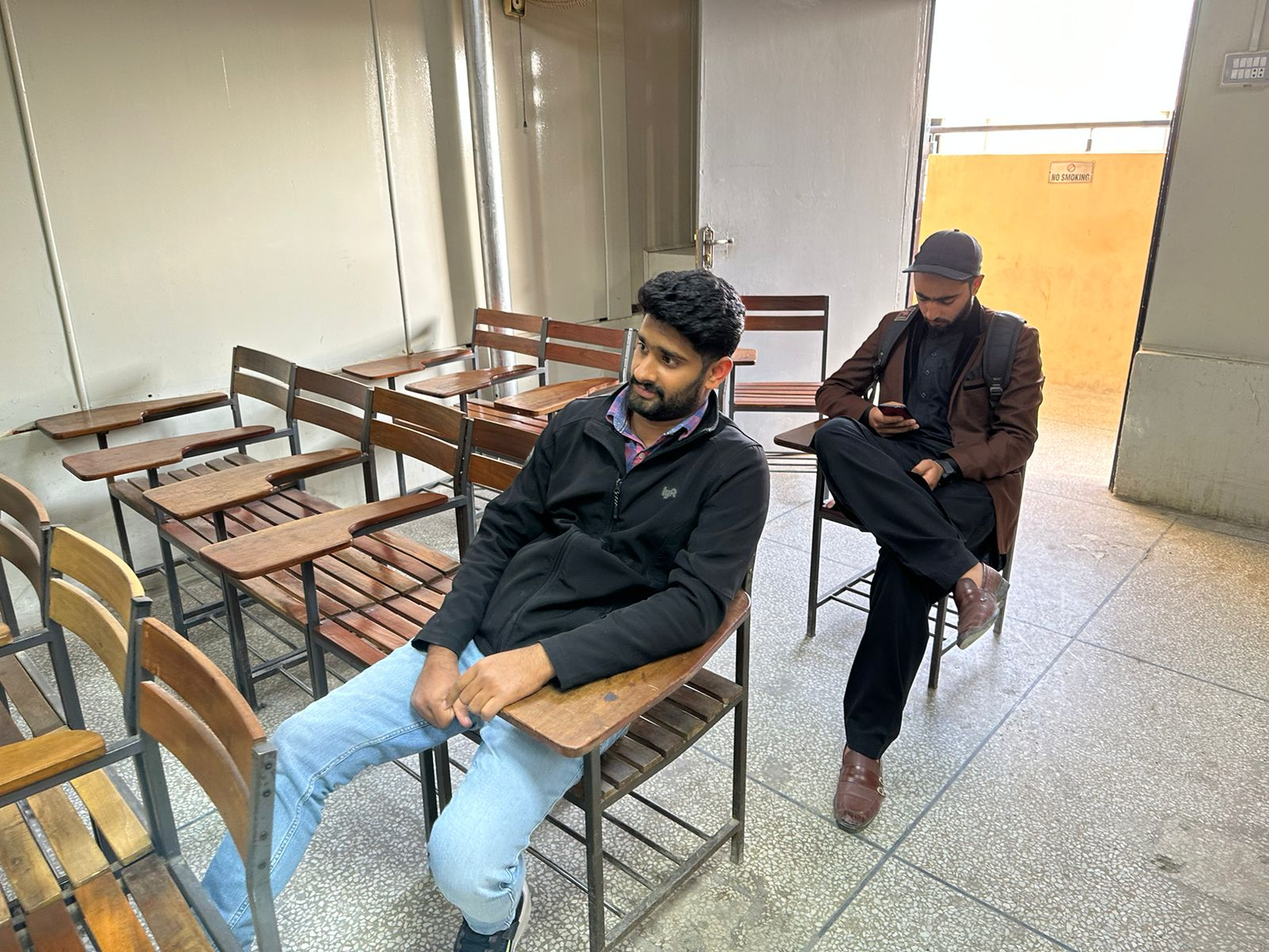non-cheating: (624, 267, 747, 422)
phone: (868, 402, 922, 439)
